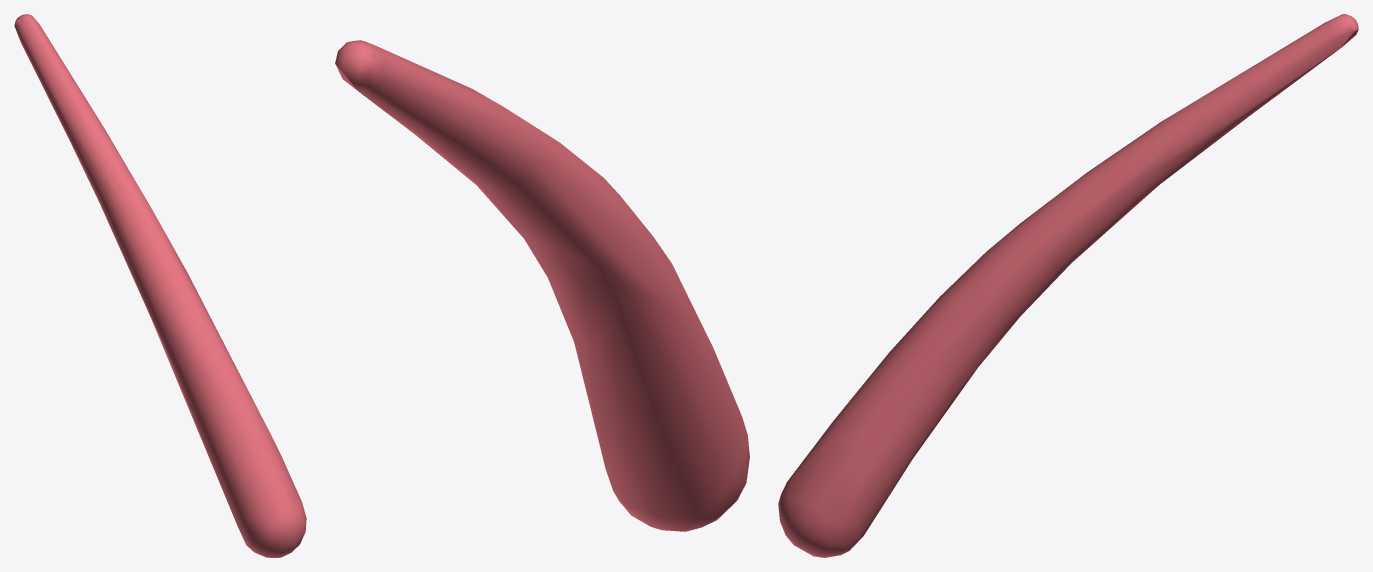
Rendered from fma8666_fj5996.glb.
3 renders of one model, left to right at view 1: azimuth 30°, elevation 25°; view 2: azimuth 150°, elevation 25°; view 3: azimuth 270°, elevation 25°, orthographic. The views are drawn at different scales.
Parts seen in each view (by area): view 1: FMA8666_FJ5996; view 2: FMA8666_FJ5996; view 3: FMA8666_FJ5996.
Part boxes in pixels (box(x1,y1,x2,y2)): FMA8666_FJ5996: box(14, 14, 306, 557); FMA8666_FJ5996: box(335, 40, 749, 531); FMA8666_FJ5996: box(778, 14, 1358, 557).
Size of the model in its own units: 0.00759 by 0.035 by 0.036.
